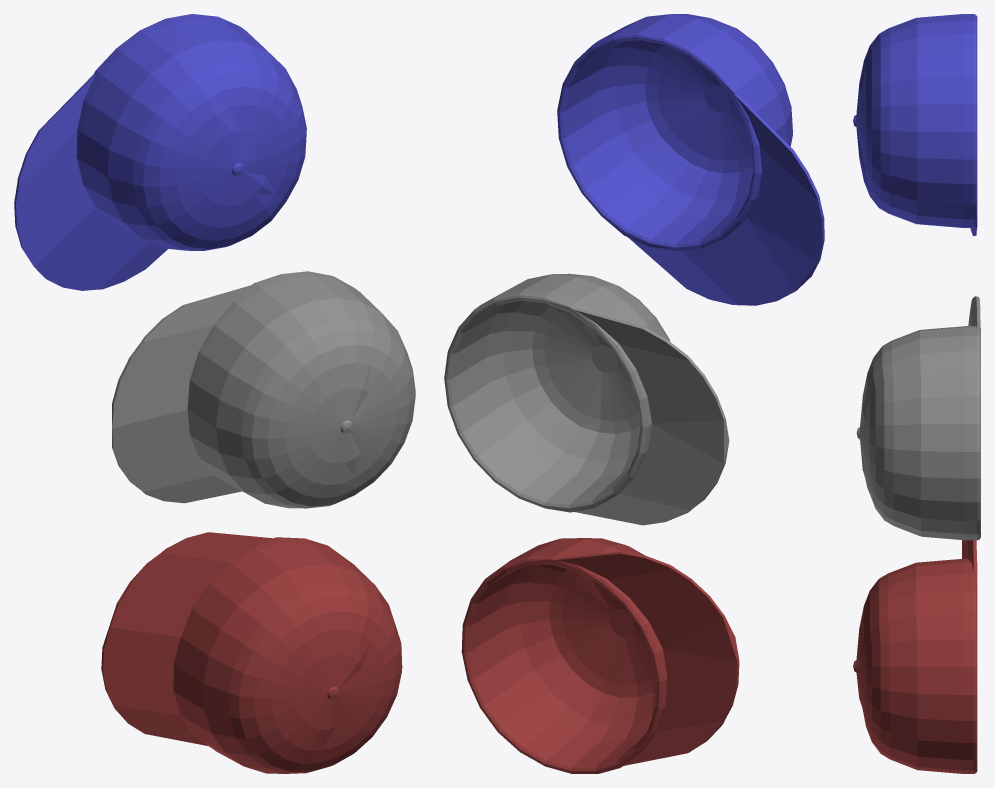
The picture shows the model from 3 angles, left to right: view 1: azimuth 30°, elevation 25°; view 2: azimuth 150°, elevation 25°; view 3: azimuth 270°, elevation 25°; orthographic projection. The views are drawn at different scales.
Visible parts, largest first — view 1: baseball cap; view 2: baseball cap; view 3: baseball cap.
Part boxes in pixels (x1,y1,x2,y2): baseball cap: [14, 14, 415, 773]; baseball cap: [444, 14, 824, 773]; baseball cap: [853, 14, 980, 773].
Size of the model in its own units: 451 by 875 by 145.
